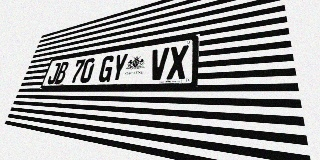0: (79, 58, 96, 83)
7: (69, 59, 86, 83)
B: (54, 61, 70, 84)
G: (97, 55, 116, 82)
J: (46, 62, 61, 84)
V: (148, 47, 169, 80)
X: (166, 45, 189, 80)
Y: (110, 53, 129, 82)
